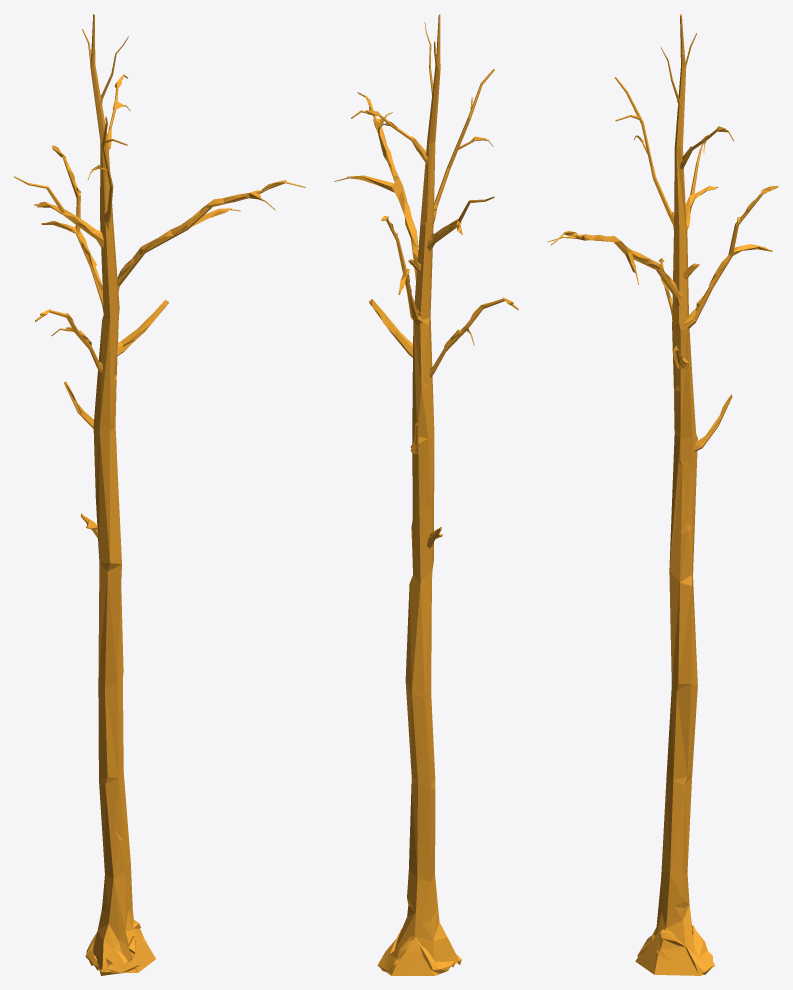
File: SM_Tree_Birch_Dead_A_Snow.fbx
3 renders of one model, left to right at view 1: azimuth 30°, elevation 25°; view 2: azimuth 150°, elevation 25°; view 3: azimuth 270°, elevation 25°, orthographic. The views are drawn at different scales.
Parts seen in each view (by area): view 1: tree-birch-dead-a-snow; view 2: tree-birch-dead-a-snow; view 3: tree-birch-dead-a-snow.
Part boxes in pixels (box(x1,y1,x2,y2)): tree-birch-dead-a-snow: box(14, 14, 305, 975); tree-birch-dead-a-snow: box(334, 14, 518, 975); tree-birch-dead-a-snow: box(547, 14, 778, 975).
Bounding box in the file's own units: 2.27 × 9.58 × 2.14.
